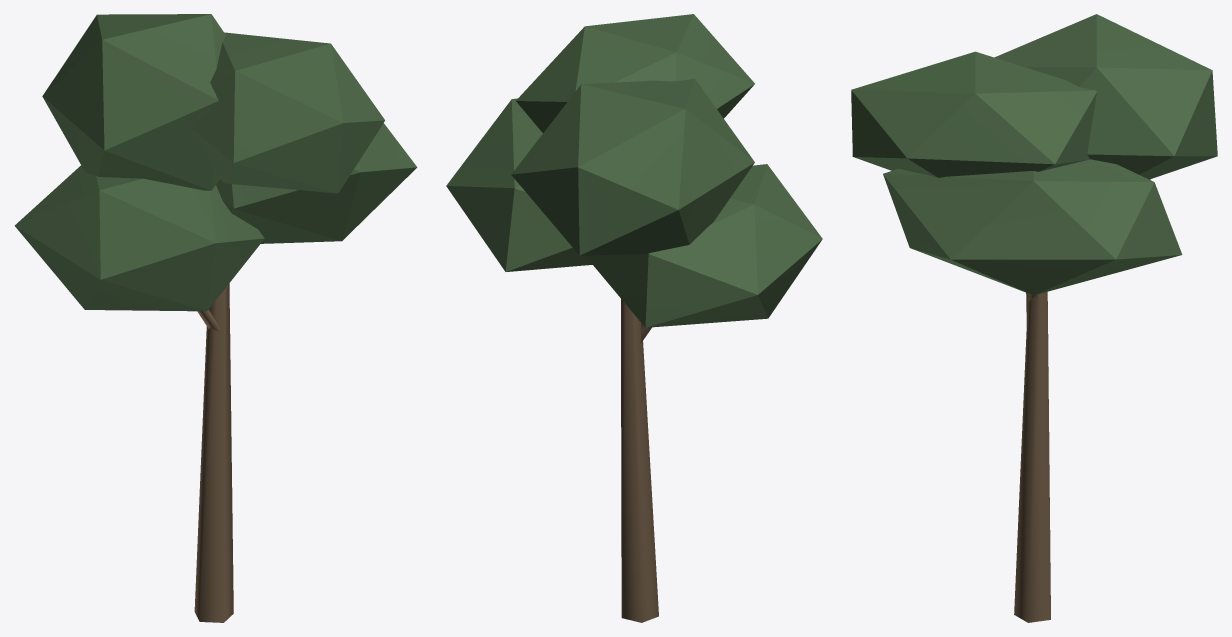
The model's file is pine.glb.
3 renders of one model, left to right at view 1: azimuth 30°, elevation 25°; view 2: azimuth 150°, elevation 25°; view 3: azimuth 270°, elevation 25°, orthographic. The views are drawn at different scales.
Parts seen in each view (by area): view 1: Сосна; view 2: Сосна; view 3: Сосна.
Part boxes in pixels (left/top/right/bottom): Сосна: left=14, top=14, right=417, bottom=622; Сосна: left=446, top=14, right=822, bottom=622; Сосна: left=851, top=14, right=1217, bottom=622.
Size of the model in its own units: 5.4 by 9.15 by 5.4.
